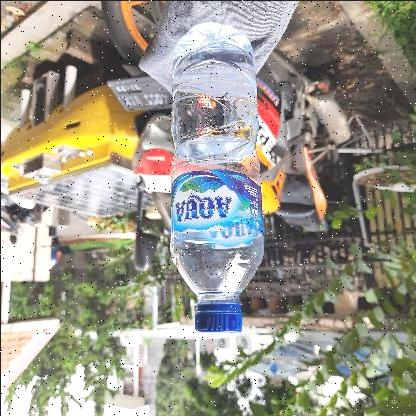Plastic Bottle: (164, 17, 262, 335)
